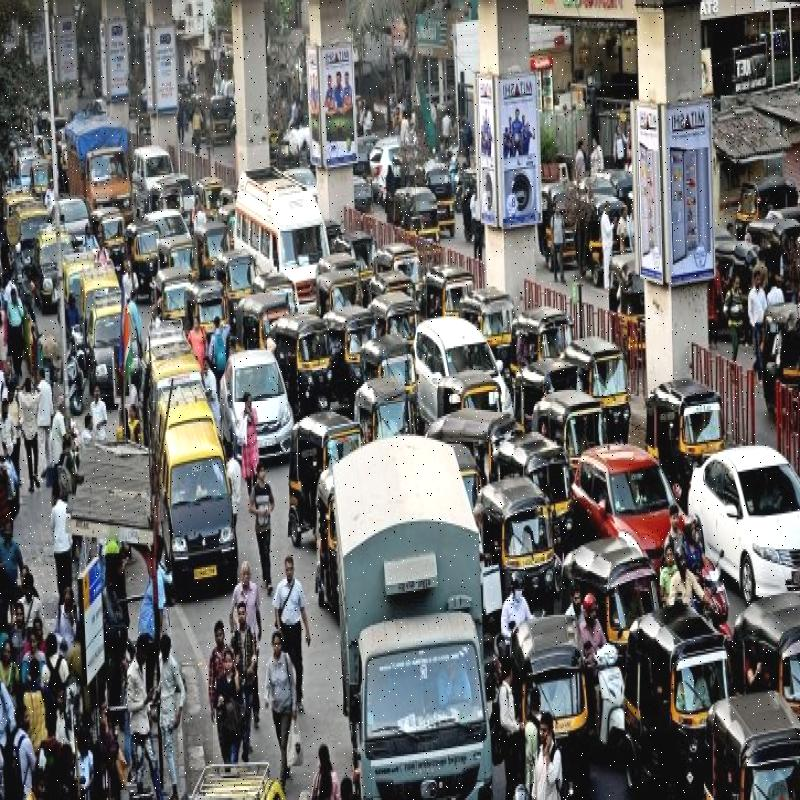auto: (624, 617, 726, 780), (506, 632, 595, 800), (485, 474, 562, 629), (286, 400, 354, 516), (657, 378, 720, 500), (594, 531, 658, 650), (276, 314, 335, 414), (589, 330, 631, 445), (528, 431, 563, 542)
car: (692, 422, 800, 606), (151, 415, 241, 629)
